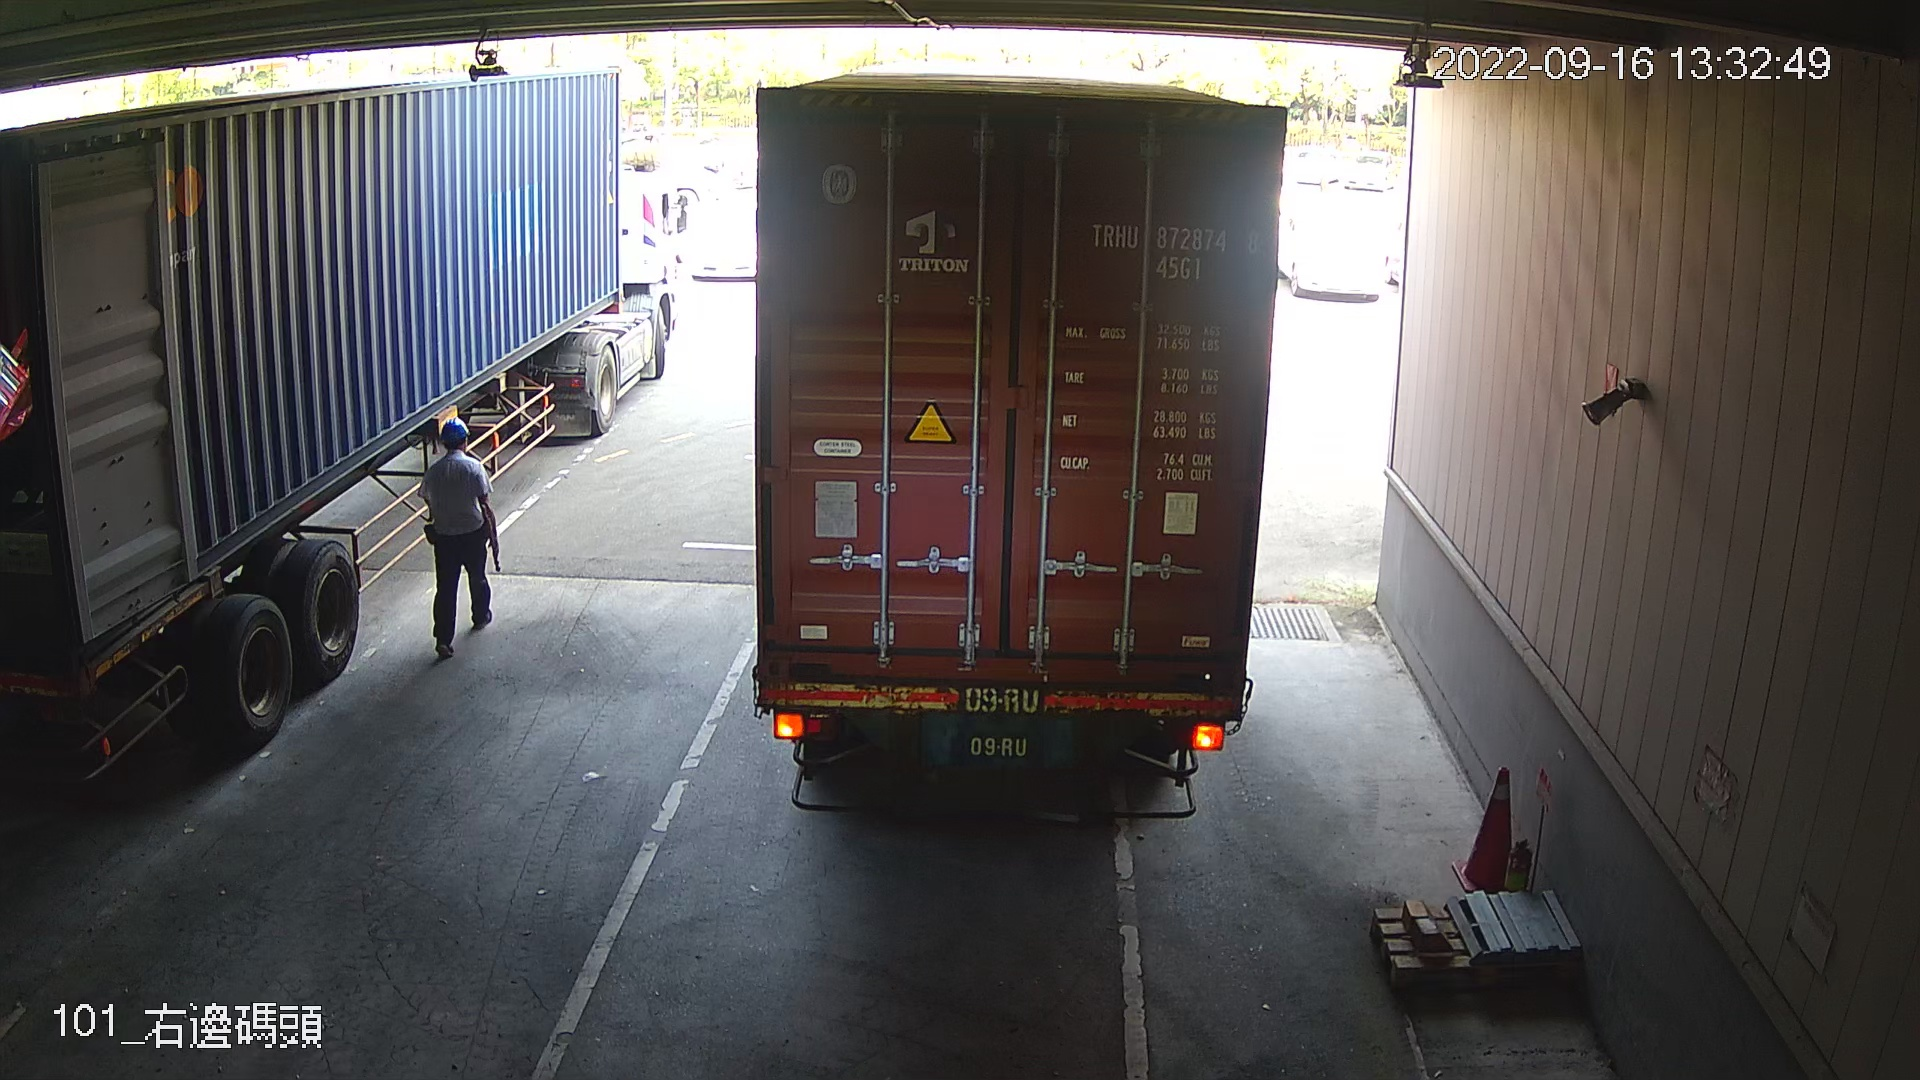container: (1075, 214, 1269, 289)
